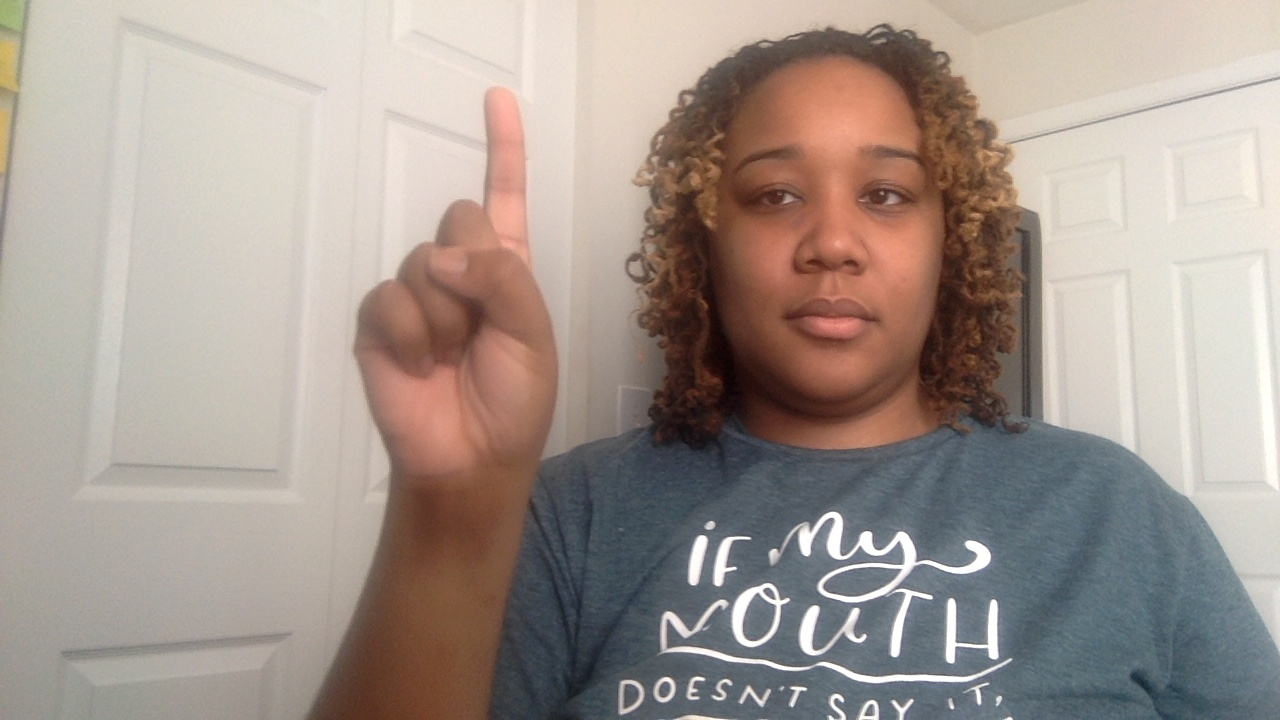up: (317, 73, 582, 720)
